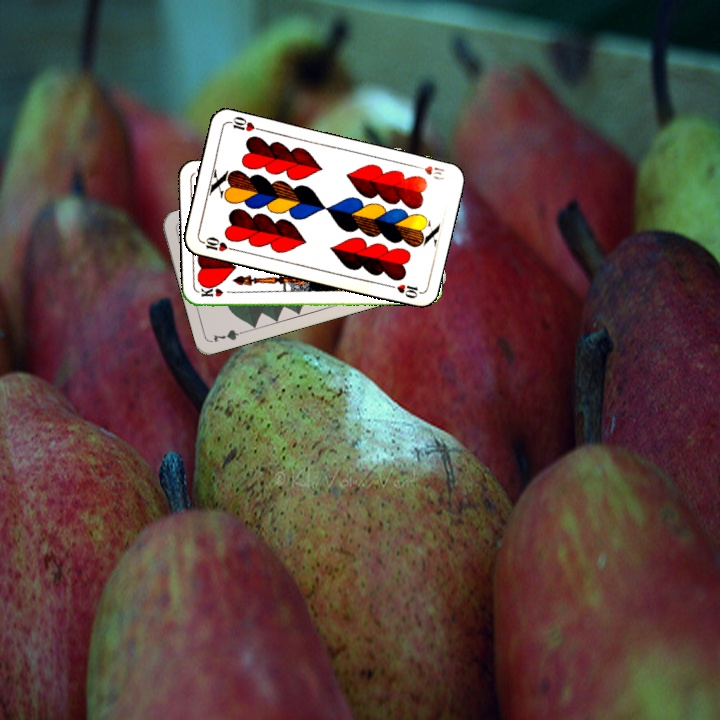G7: (209, 325, 249, 345)
H10: (197, 233, 237, 254), (409, 161, 447, 183)
HK: (197, 284, 237, 299)
